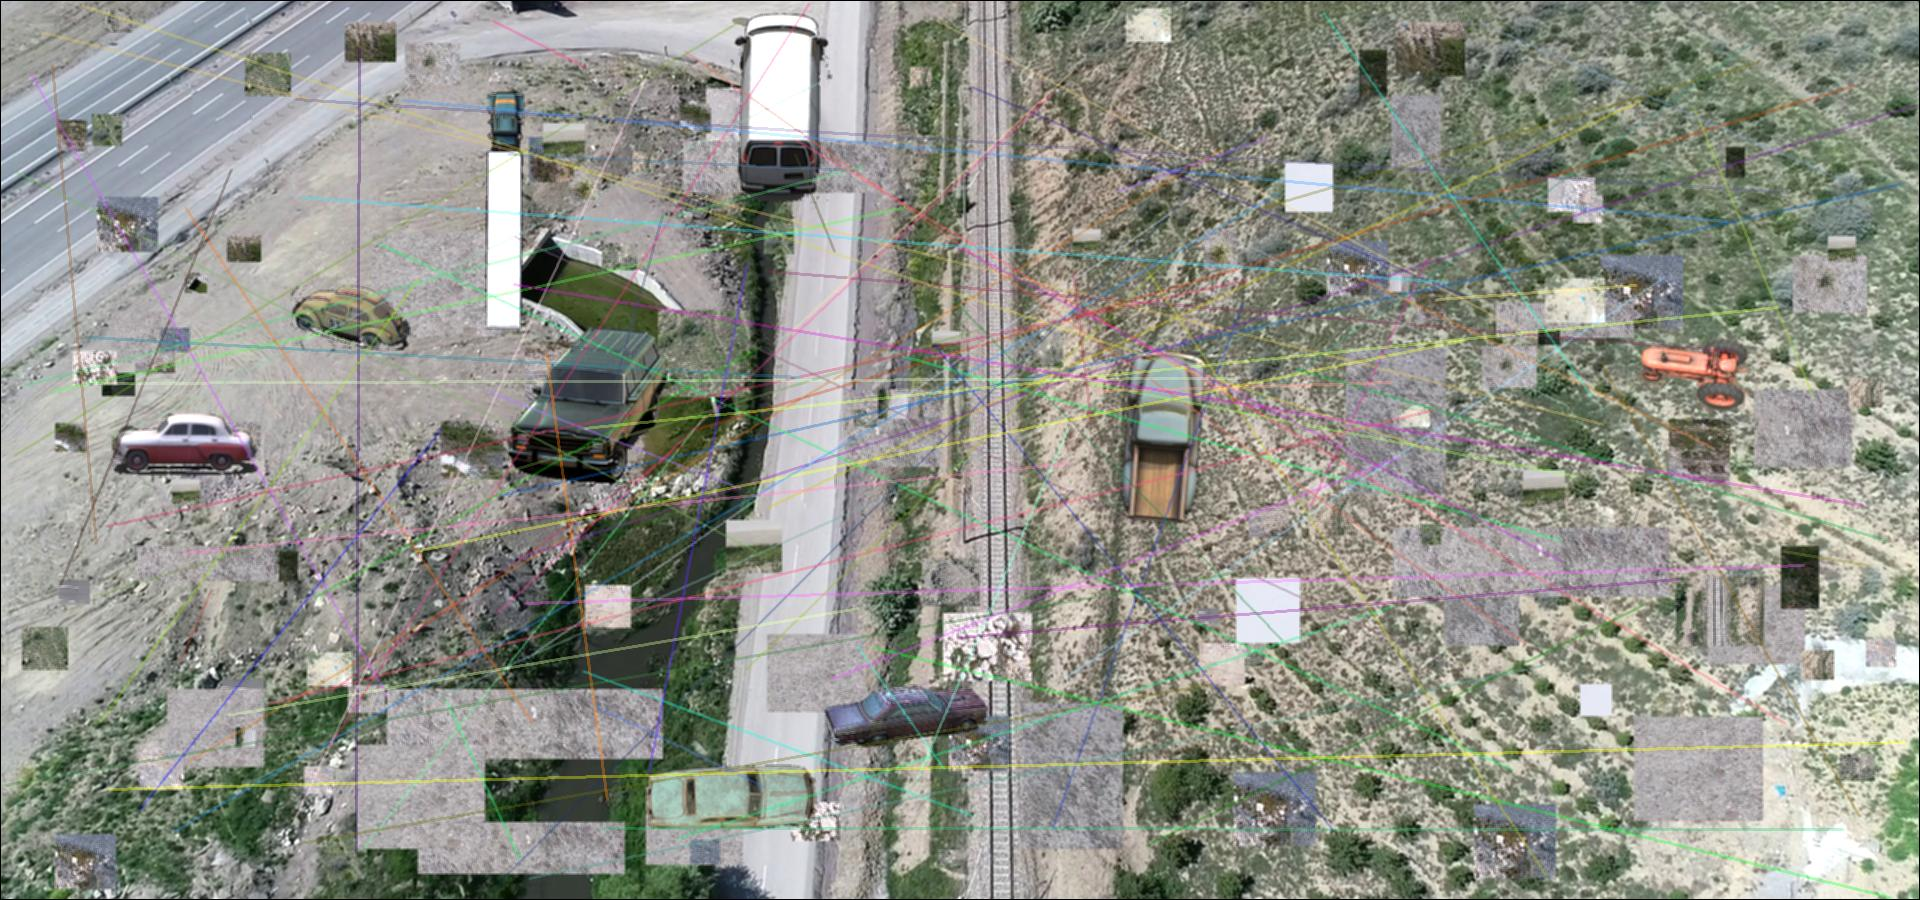arac: (504, 324, 667, 485), (731, 10, 831, 203), (1120, 351, 1206, 525), (476, 91, 534, 332), (639, 760, 819, 828), (822, 682, 989, 749), (113, 414, 258, 478), (1637, 336, 1753, 411), (291, 285, 410, 350)
